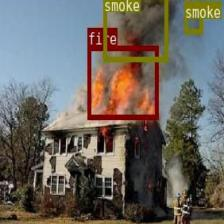fire: (88, 45, 158, 118)
smoke: (103, 0, 168, 60), (184, 1, 202, 33)
